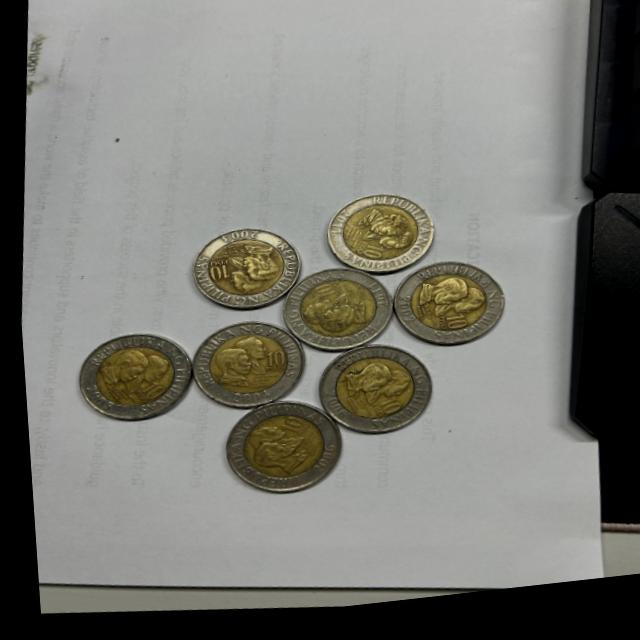10_Old_Front: (273, 418, 300, 443), (369, 402, 398, 425), (437, 319, 463, 341), (253, 352, 279, 374), (133, 382, 159, 402), (353, 250, 382, 267), (200, 266, 224, 286), (307, 287, 331, 307)
